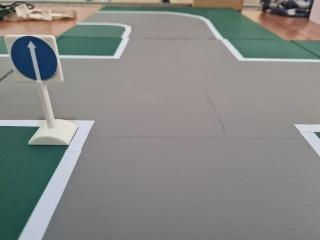straight: (7, 31, 63, 90)
